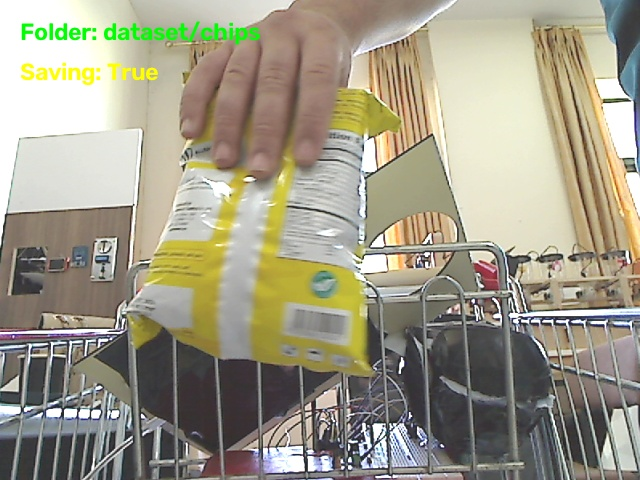chips: (127, 89, 398, 375)
